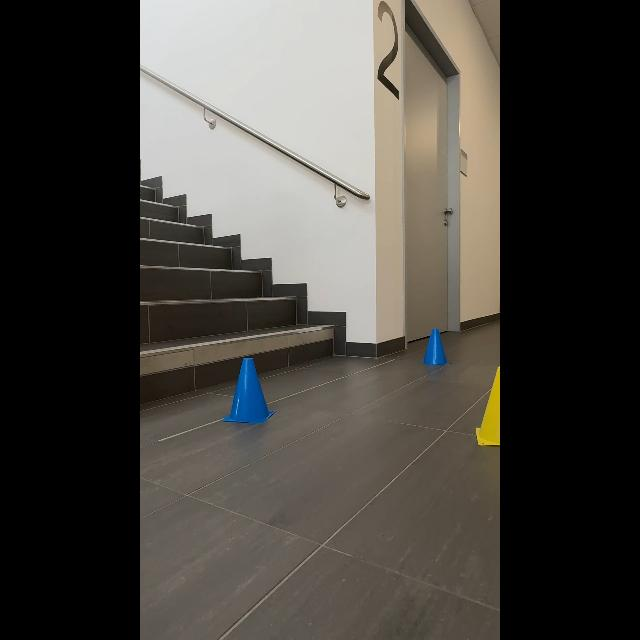blue_cone: (226, 348, 276, 429), (414, 322, 458, 374)
